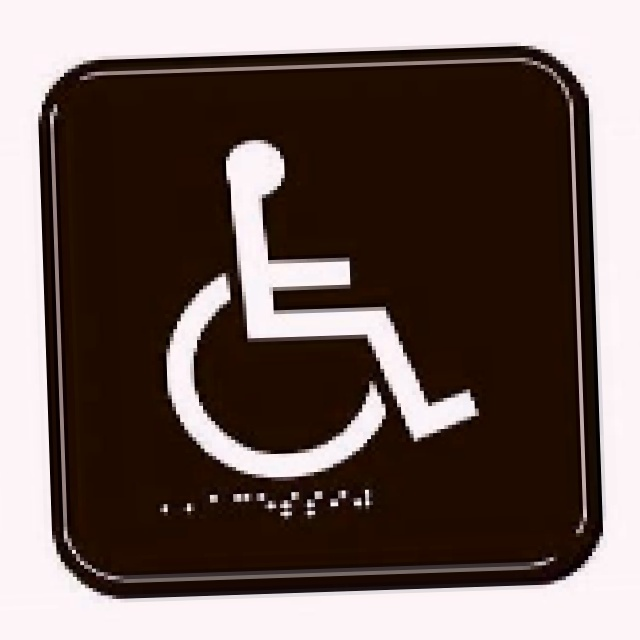ISA: (153, 130, 485, 483)
